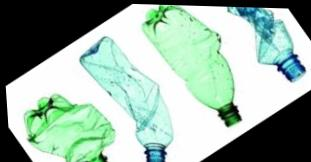plastic: (6, 50, 145, 161), (140, 5, 240, 141), (77, 37, 172, 161), (227, 7, 306, 81)
